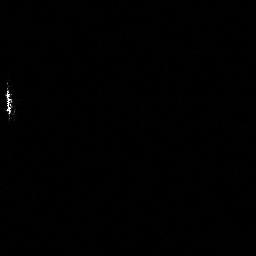ship: (1, 80, 19, 123)
